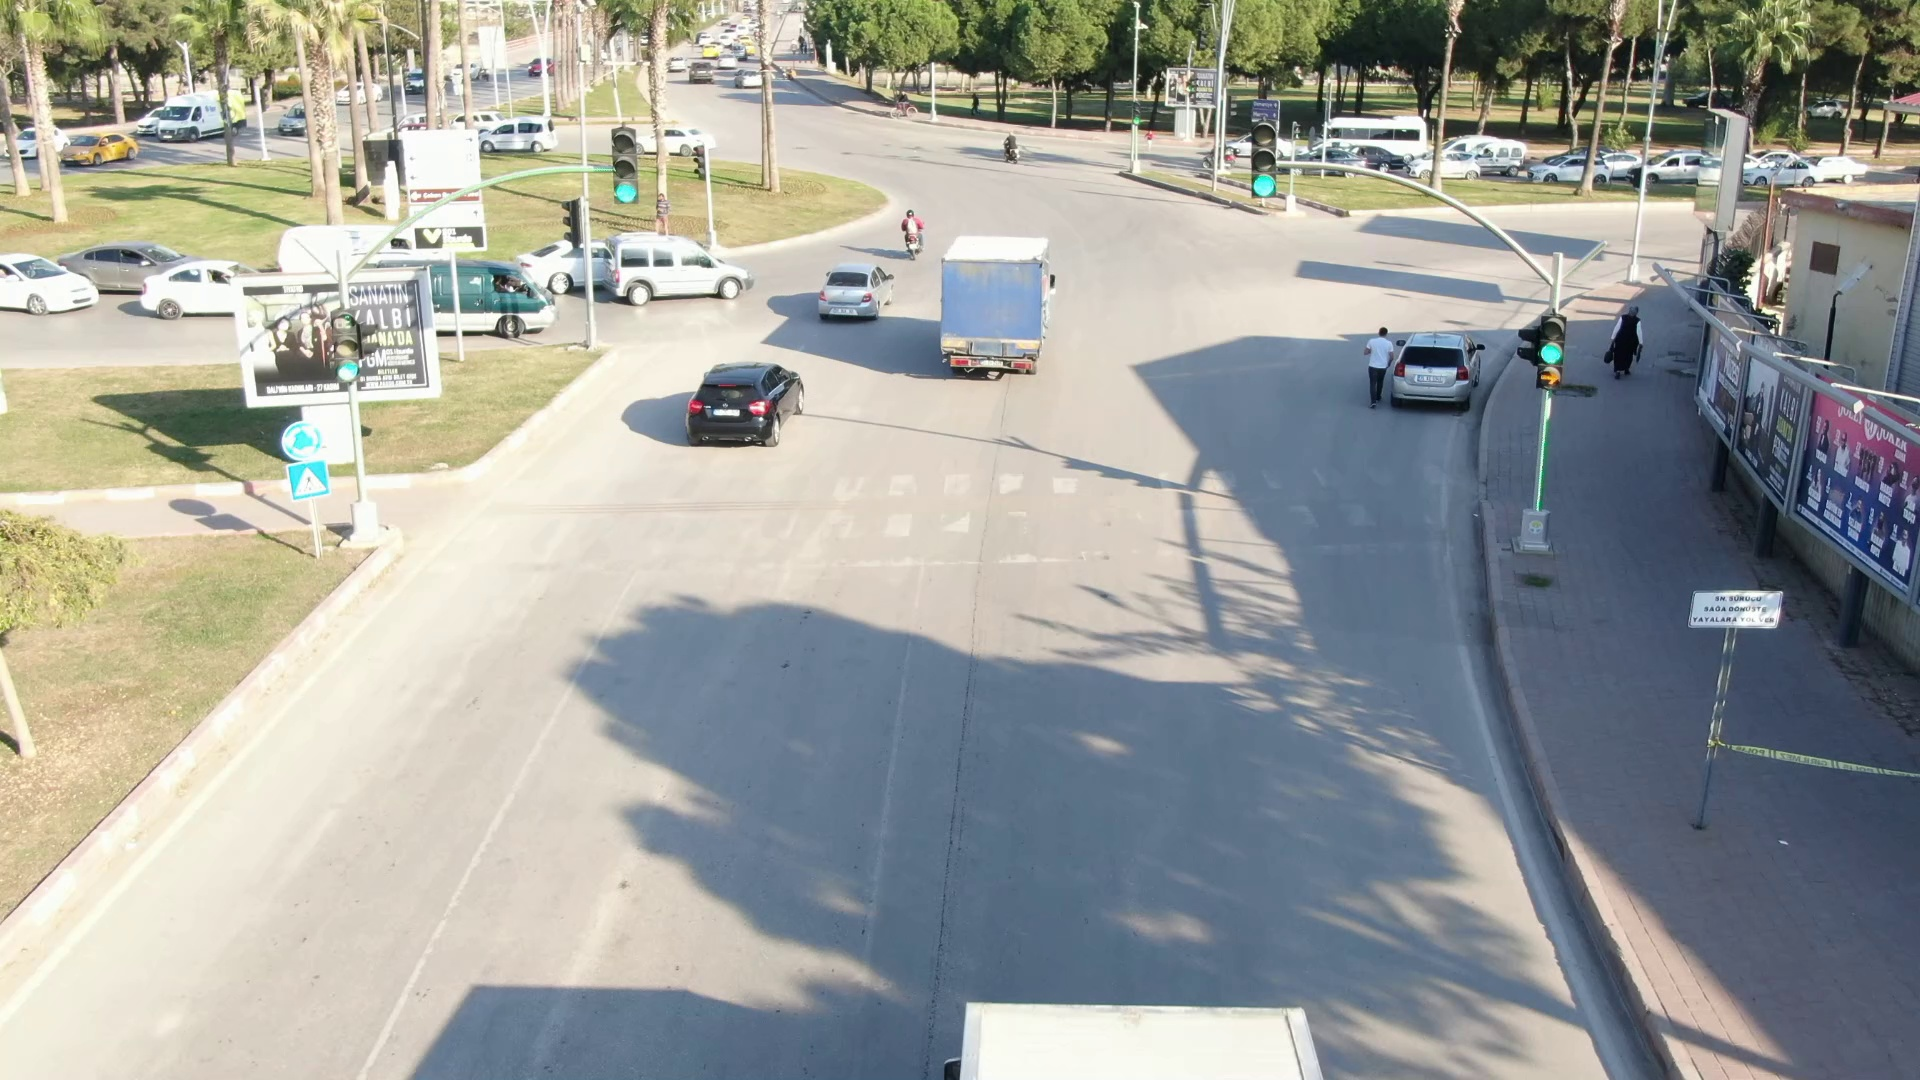car: (426, 253, 578, 345), (676, 347, 817, 446), (604, 228, 770, 311), (1392, 322, 1489, 420), (1, 240, 114, 323), (806, 260, 907, 331), (158, 86, 259, 144), (1522, 144, 1613, 194), (57, 131, 149, 172), (477, 117, 569, 158), (1401, 147, 1484, 186), (276, 87, 315, 143)
person: (1598, 301, 1658, 387), (1362, 316, 1395, 408)
